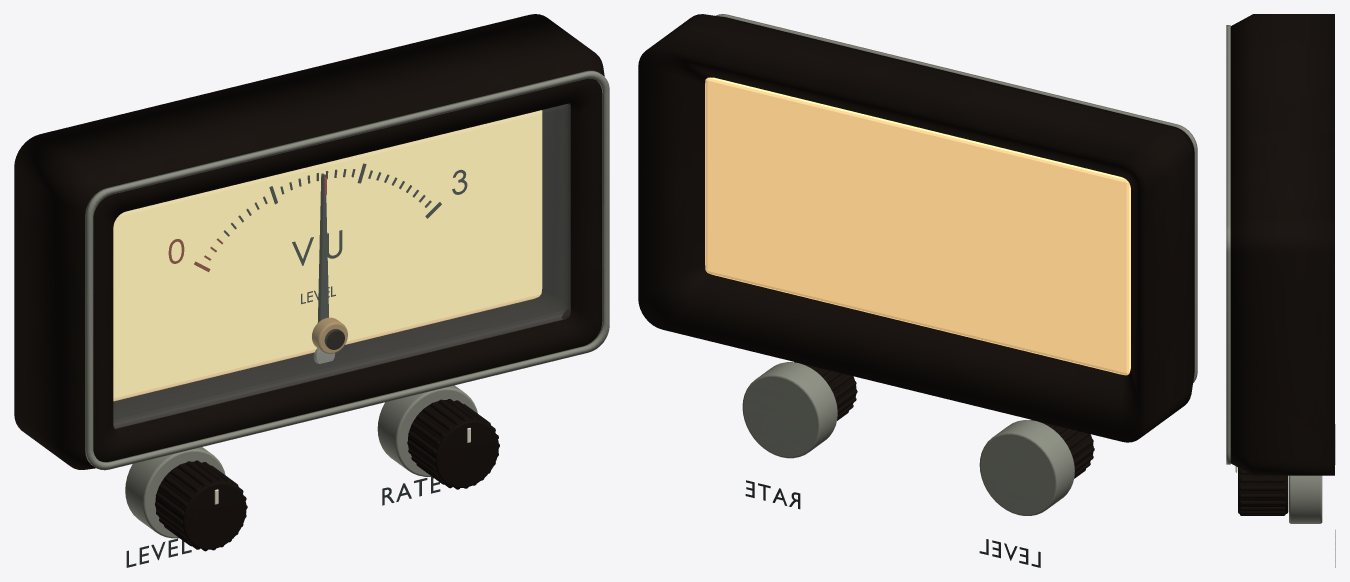
File: instrument-vu.glb
3 renders of one model, left to right at view 1: azimuth 30°, elevation 25°; view 2: azimuth 150°, elevation 25°; view 3: azimuth 270°, elevation 25°, orthographic. The views are drawn at different scales.
Visible parts, largest first — view 1: Tactile_meter cast bezel, Tactile_meter bevel glass, Tactile_meter scale, Tactile_meter bright reveal, Tactile_MeterAmplitude grip, Tactile_MeterRate grip, Tactile_MeterAmplitude seat, Tactile_MeterRate seat, Tactile_meter steel pointer; view 2: Tactile_meter cast bezel, Tactile_meter scale, Tactile_MeterRate seat, Tactile_MeterAmplitude seat, Tactile_meter bright reveal; view 3: Tactile_meter cast bezel, Tactile_meter bright reveal, Tactile_MeterRate seat, Tactile_MeterRate grip, Tactile_MeterRate knurl 0, Tactile_MeterRate knurl 1, Tactile_MeterRate knurl 2, Tactile_MeterRate knurl 23, Tactile_MeterRate knurl 22, Tactile_MeterRate knurl 21.
Part boxes in pixels (box(x1,y1,x2,y2)): Tactile_meter cast bezel: box(14, 14, 604, 469); Tactile_meter bevel glass: box(113, 104, 570, 428); Tactile_meter scale: box(113, 110, 542, 401); Tactile_meter bright reveal: box(85, 70, 609, 470); Tactile_MeterAmplitude grip: box(155, 461, 246, 549); Tactile_MeterRate grip: box(408, 400, 498, 487); Tactile_MeterAmplitude seat: box(125, 447, 225, 538); Tactile_MeterRate seat: box(377, 385, 477, 476); Tactile_meter steel pointer: box(317, 173, 328, 322); Tactile_meter cast bezel: box(638, 14, 1194, 442); Tactile_meter scale: box(705, 77, 1130, 375); Tactile_MeterRate seat: box(742, 362, 837, 458); Tactile_MeterAmplitude seat: box(979, 420, 1074, 515); Tactile_meter bright reveal: box(716, 14, 1197, 382); Tactile_meter cast bezel: box(1230, 14, 1334, 475); Tactile_meter bright reveal: box(1226, 25, 1230, 464); Tactile_MeterRate seat: box(1289, 475, 1322, 523); Tactile_MeterRate grip: box(1238, 467, 1288, 513); Tactile_MeterRate knurl 0: box(1239, 494, 1285, 498); Tactile_MeterRate knurl 1: box(1239, 486, 1285, 490); Tactile_MeterRate knurl 2: box(1239, 478, 1285, 482); Tactile_MeterRate knurl 23: box(1239, 501, 1285, 505); Tactile_MeterRate knurl 22: box(1239, 507, 1285, 510); Tactile_MeterRate knurl 21: box(1239, 511, 1285, 514).
Bounding box in the file's own units: 2.53 × 2.03 × 0.5206.
Materials: 9 (2 with a texture image).
